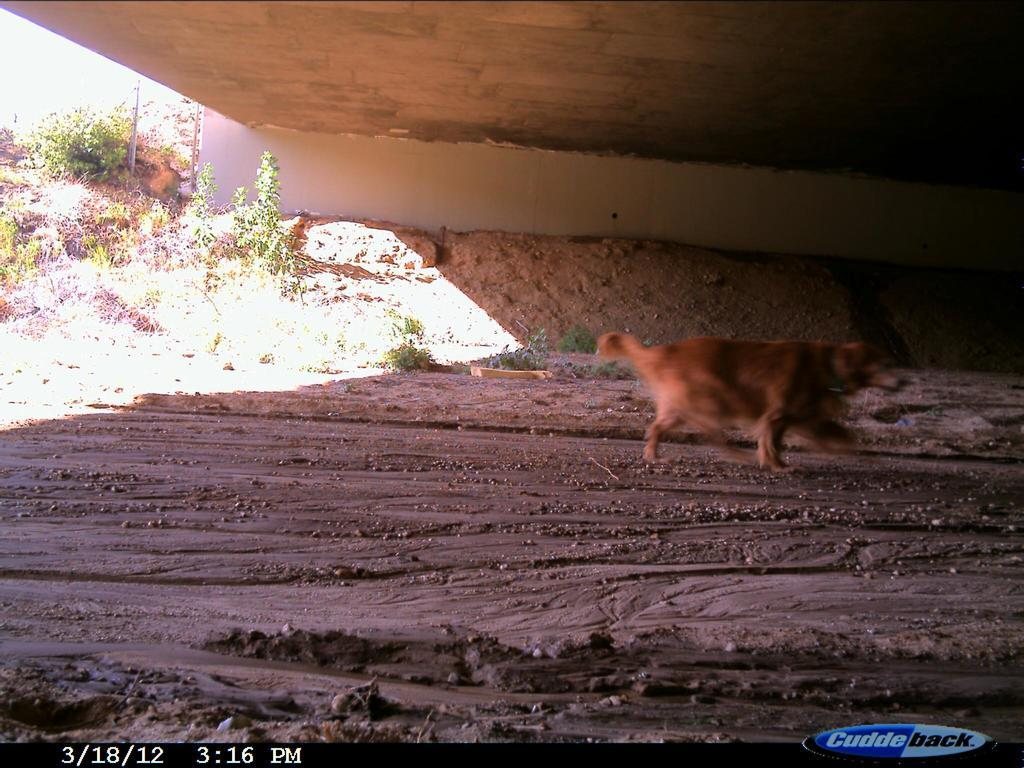dog: (582, 300, 929, 478)
